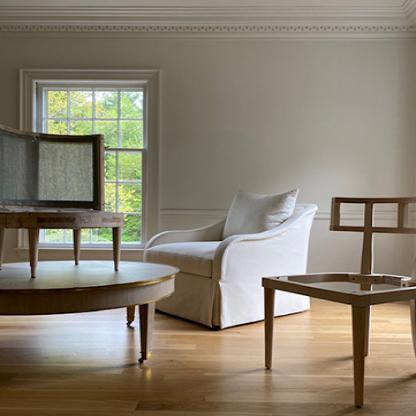chair: (259, 192, 416, 414), (0, 118, 143, 284)
sofa: (133, 189, 324, 334)
table: (0, 258, 183, 365)
